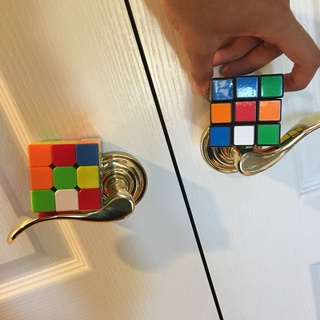face: (27, 143, 103, 212), (209, 76, 281, 146)
